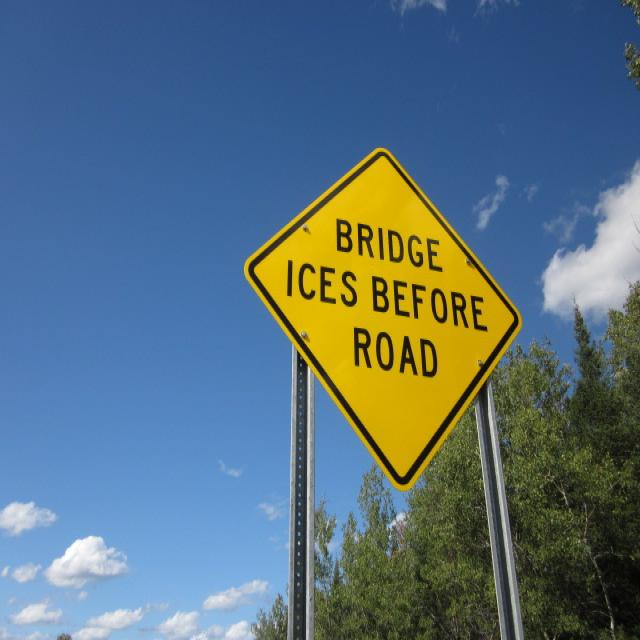warning: (243, 141, 527, 493)
